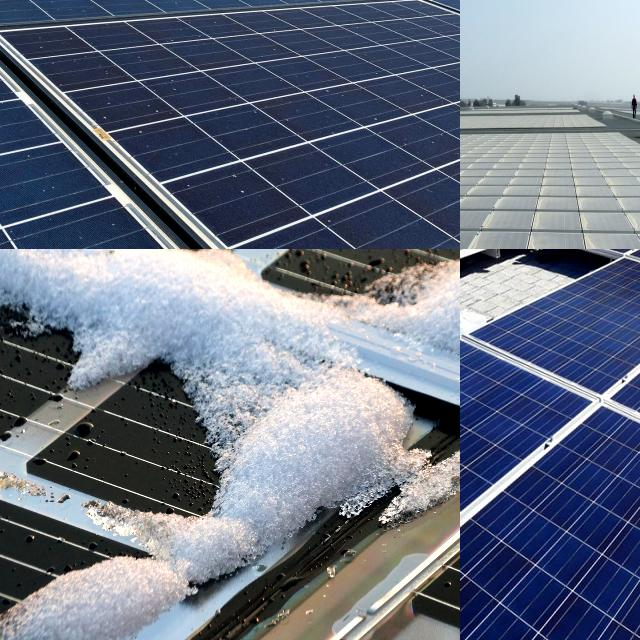crack: (465, 272, 640, 410), (484, 504, 586, 587), (534, 472, 617, 555), (550, 305, 640, 377), (476, 548, 558, 617), (591, 479, 640, 590), (460, 364, 513, 440), (460, 438, 498, 518), (598, 249, 640, 285)
dust: (160, 23, 460, 170), (0, 135, 71, 249), (513, 197, 583, 249)
panel: (214, 249, 451, 517), (0, 486, 233, 640), (0, 249, 200, 377), (41, 249, 415, 308)
